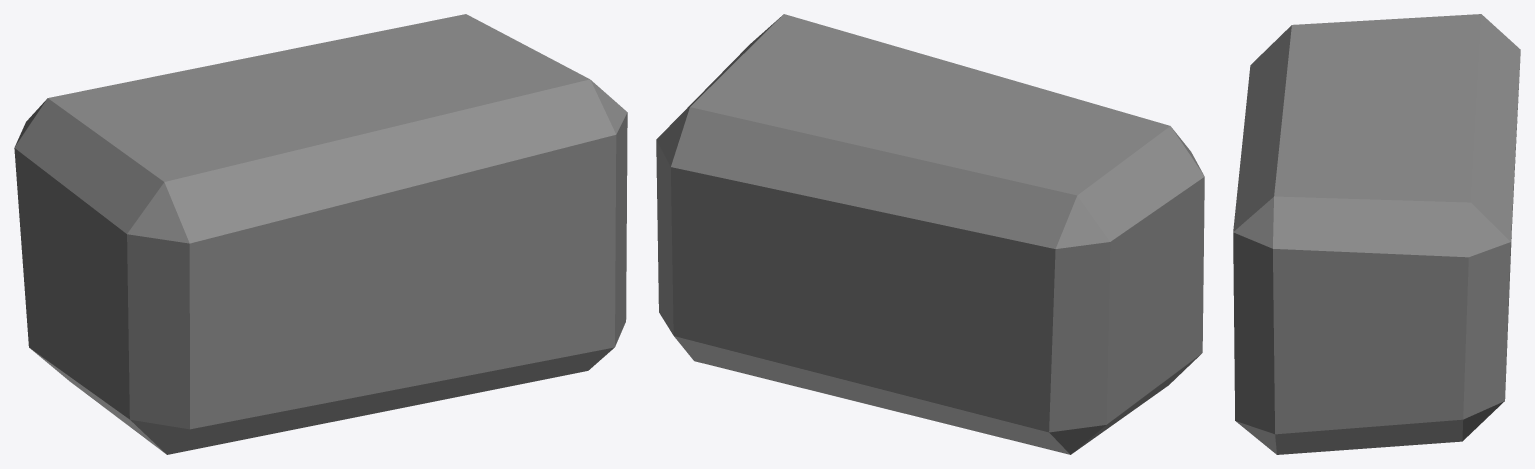
File: Brick_Single_03.fbx
3 renders of one model, left to right at view 1: azimuth 30°, elevation 25°; view 2: azimuth 150°, elevation 25°; view 3: azimuth 270°, elevation 25°, orthographic. The views are drawn at different scales.
Parts seen in each view (by area): view 1: Brick_Single_03; view 2: Brick_Single_03; view 3: Brick_Single_03.
Boxes of the visible parts, <box> form: Brick_Single_03: <box>14,14,627,454</box>; Brick_Single_03: <box>656,14,1204,454</box>; Brick_Single_03: <box>1233,14,1520,454</box>.
Size of the model in its own units: 36.7 by 20.7 by 20.87.
